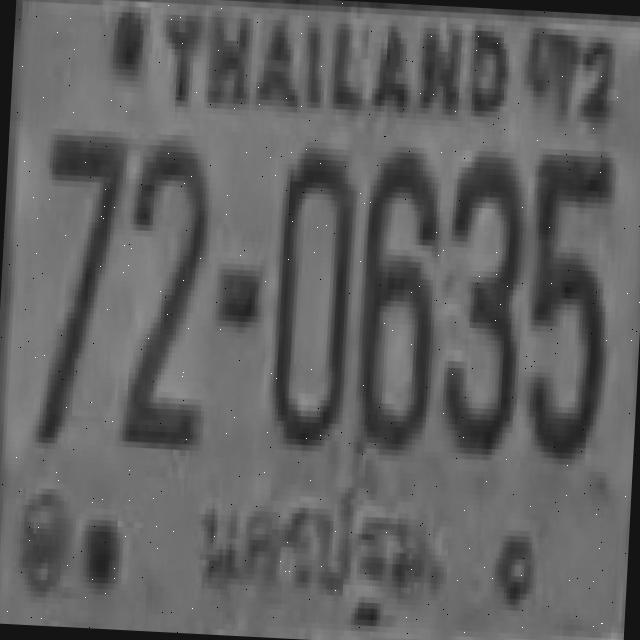0: (266, 141, 354, 441)
2: (117, 133, 210, 445)
3: (436, 150, 525, 450)
5: (521, 148, 614, 455)
6: (351, 146, 440, 446)
7: (30, 128, 124, 440)
NakhonPathom: (189, 478, 442, 638)
